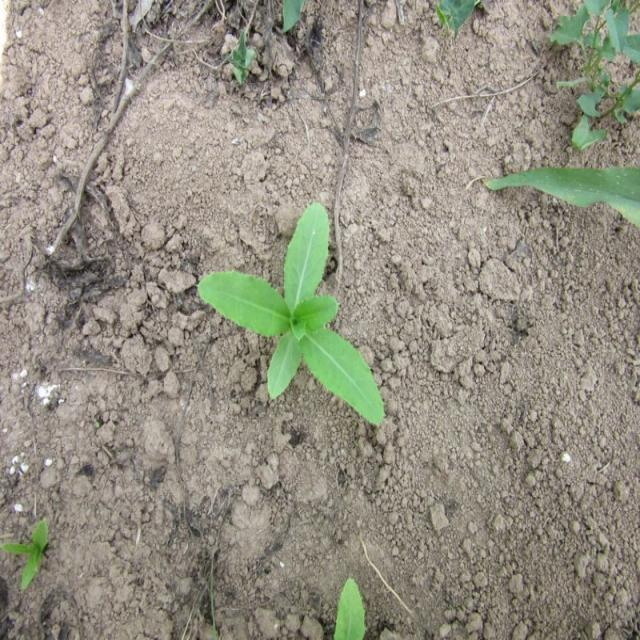field_thistle: (168, 218, 407, 408)
